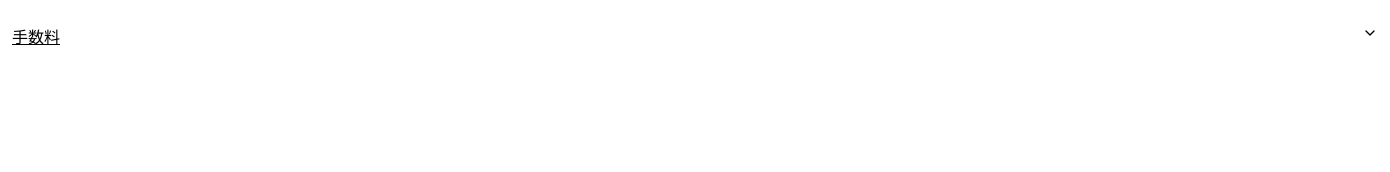
Test case: Accordion › removes closed content from reading and tab order
Check: the link "表" is not shown
Click the button "手数料". click: (36,38)
box: [12,12,1378,60]
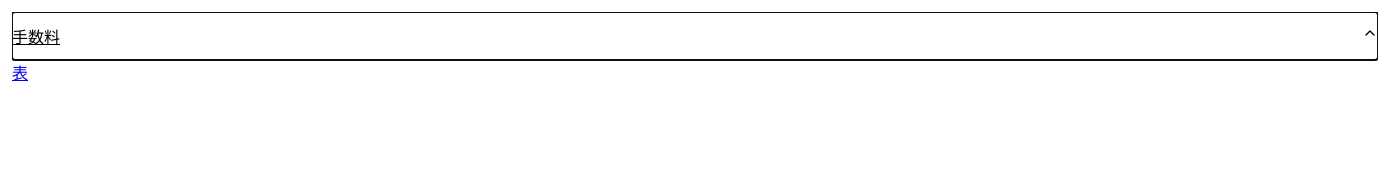
Check: the link "表" is shown, box [12,65,28,82]
